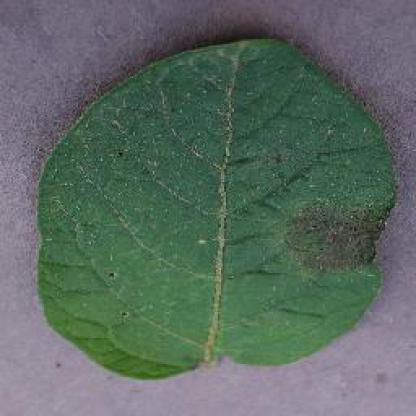bad leaf: (275, 180, 393, 281)
